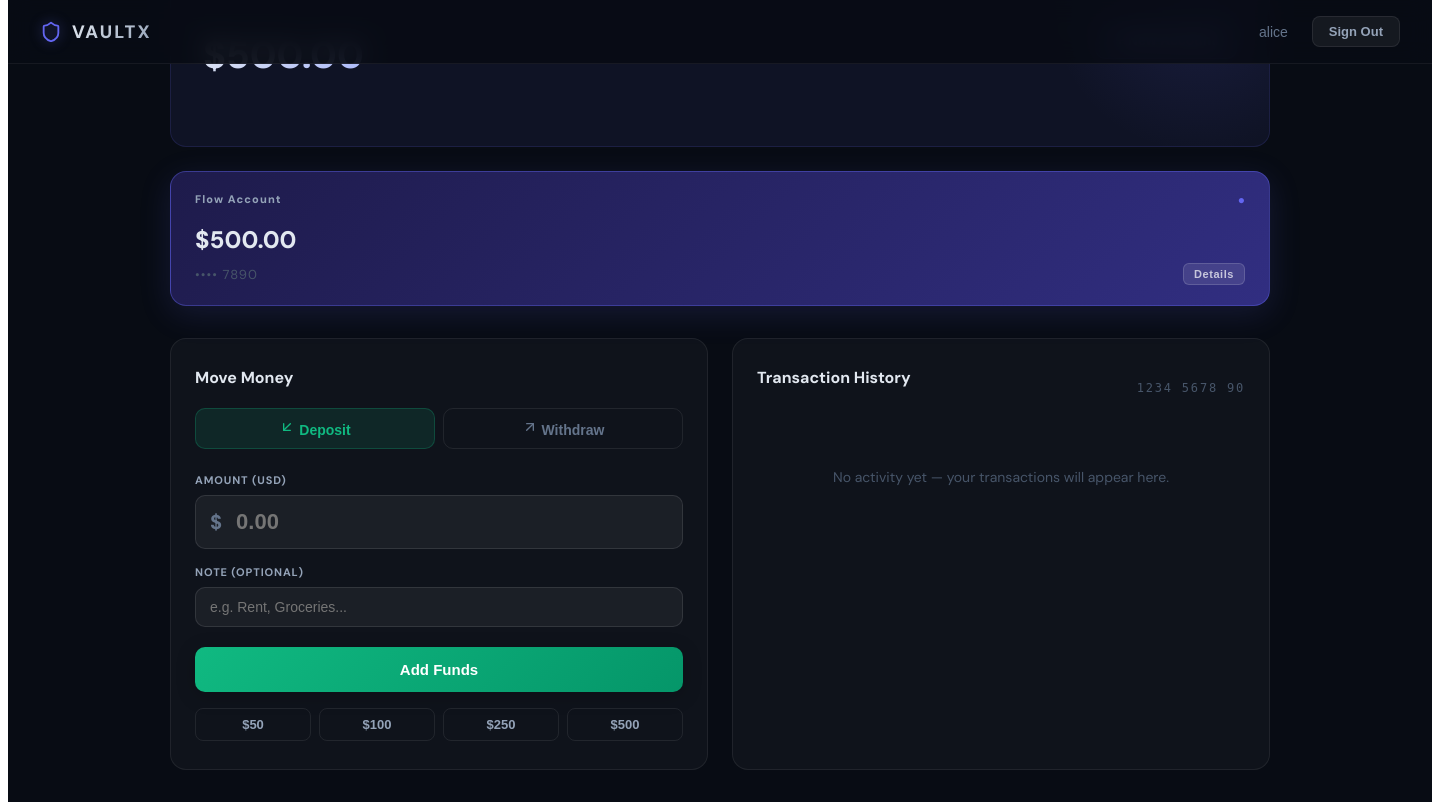
Test case: Dashboard — transaction form › quick-amount buttons populate the amount field
(page scrolled)
Click the button "$100": (377, 724) [319, 708, 435, 741]
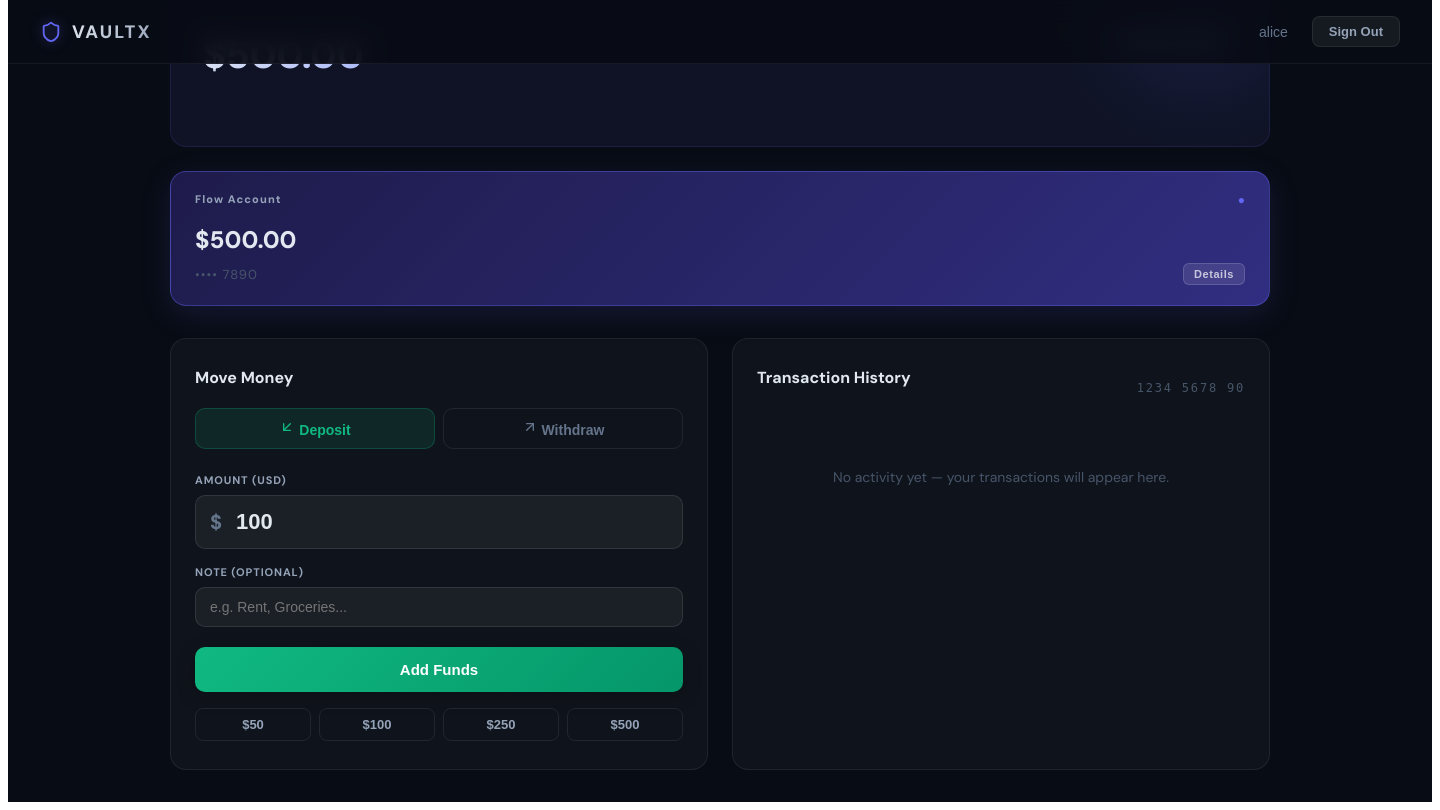
Expected: the number field with placeholder "0.00" holds "100", [222, 496, 682, 548]
